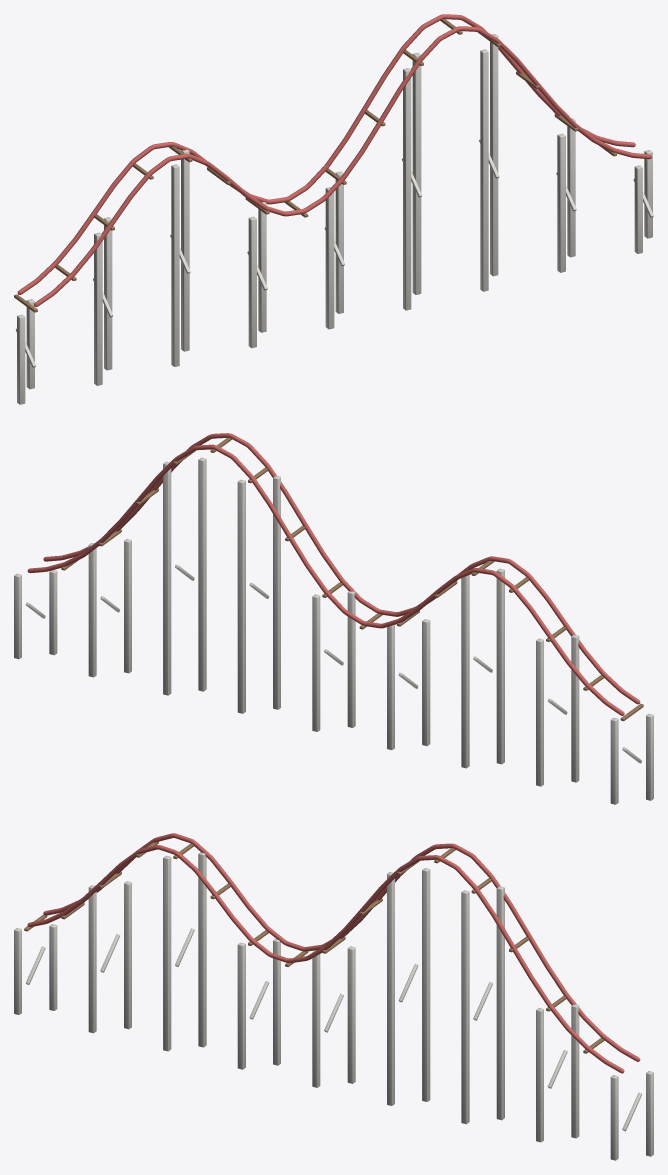
Rendered from coaster_fondale.glb.
3 renders of one model, top to bottom at view 1: azimuth 30°, elevation 25°; view 2: azimuth 150°, elevation 25°; view 3: azimuth 330°, elevation 25°, orthographic. The views are drawn at different scales.
Parts seen in each view (by area): view 1: rotaia_-55, rotaia_55, mont_20_1, mont_24_-1, mont_20_-1, mont_24_1, mont_8_-1, mont_8_1, mont_16_-1, mont_4_-1, mont_28_-1, mont_4_1 (+8 smaller); view 2: rotaia_55, rotaia_-55, mont_20_1, mont_24_-1, mont_24_1, mont_20_-1, mont_8_1, mont_8_-1, mont_4_-1, mont_16_1, mont_4_1, mont_16_-1 (+8 smaller); view 3: rotaia_-55, rotaia_55, mont_20_1, mont_24_-1, mont_24_1, mont_20_-1, mont_8_-1, mont_8_1, mont_4_-1, mont_16_1, mont_16_-1, mont_4_1 (+8 smaller).
Part boxes in pixels (box(x1,y1,x2,y2)): rotaia_-55: box(34, 26, 651, 306); rotaia_55: box(17, 14, 635, 294); mont_20_1: box(412, 52, 421, 294); mont_24_-1: box(480, 49, 488, 291); mont_20_-1: box(403, 68, 411, 310); mont_24_1: box(490, 34, 498, 276); mont_8_-1: box(171, 164, 179, 366); mont_8_1: box(181, 149, 189, 351); mont_16_-1: box(325, 187, 334, 329); mont_4_-1: box(94, 232, 102, 385); mont_28_-1: box(557, 133, 565, 272); mont_4_1: box(104, 217, 112, 370); rotaia_55: box(27, 444, 624, 715); rotaia_-55: box(43, 433, 640, 704); mont_20_1: box(237, 479, 245, 713); mont_24_-1: box(198, 457, 206, 691); mont_24_1: box(163, 461, 171, 695); mont_20_-1: box(273, 475, 280, 709); mont_8_1: box(461, 575, 469, 768); mont_8_-1: box(496, 568, 504, 764); mont_4_-1: box(571, 634, 579, 782); mont_16_1: box(312, 594, 320, 731); mont_4_1: box(536, 638, 543, 786); mont_16_-1: box(347, 591, 355, 727); rotaia_-55: box(27, 845, 624, 1073); rotaia_55: box(43, 833, 640, 1061); mont_20_1: box(422, 868, 430, 1101); mont_24_-1: box(461, 890, 469, 1124); mont_24_1: box(496, 886, 504, 1120); mont_20_-1: box(387, 872, 394, 1105); mont_8_-1: box(163, 855, 171, 1051); mont_8_1: box(198, 852, 206, 1047); mont_4_-1: box(88, 885, 96, 1033); mont_16_1: box(347, 946, 355, 1083); mont_16_-1: box(312, 950, 320, 1087); mont_4_1: box(124, 881, 131, 1029).
Bounding box in the file's own units: 25.12 × 10.07 × 1.4.
